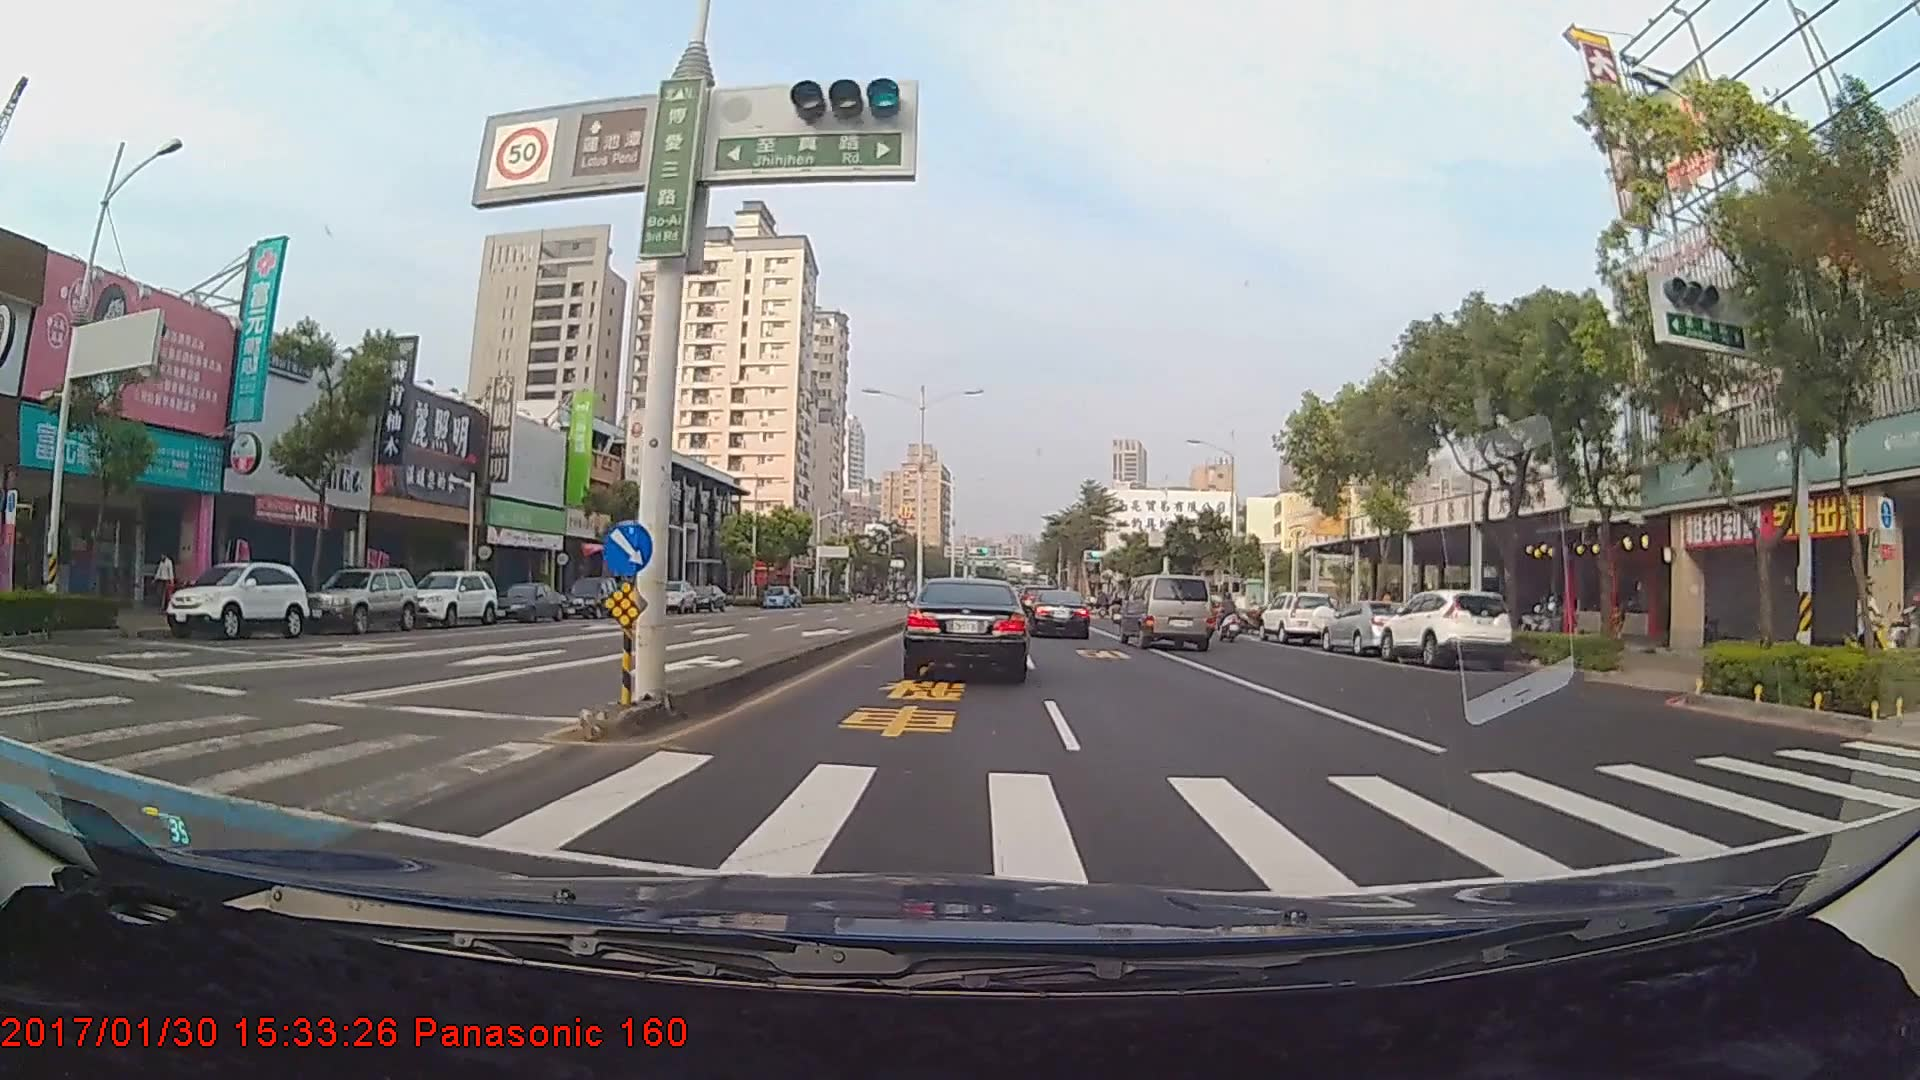pedestrian: (155, 553, 178, 618)
rider: (1211, 592, 1245, 642)
vehicle: (906, 577, 1026, 678), (1374, 585, 1515, 667), (162, 561, 307, 638), (304, 564, 419, 635), (1117, 574, 1214, 650), (1317, 597, 1417, 655), (406, 569, 499, 629), (1017, 585, 1091, 640), (1262, 593, 1336, 644), (484, 579, 566, 621), (559, 575, 622, 617), (652, 579, 699, 614), (687, 584, 727, 612)
